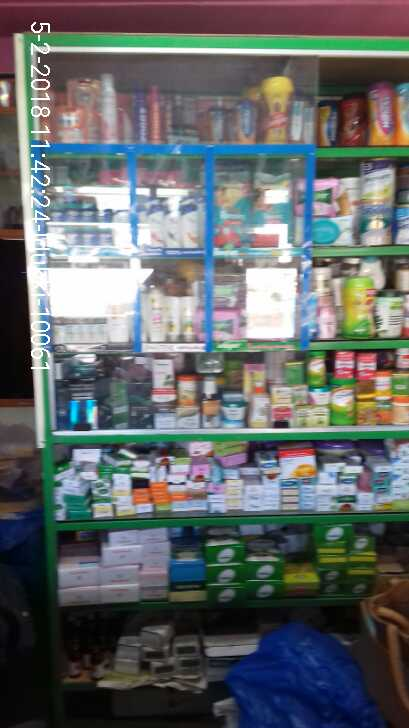vicks: (43, 204, 112, 244)
